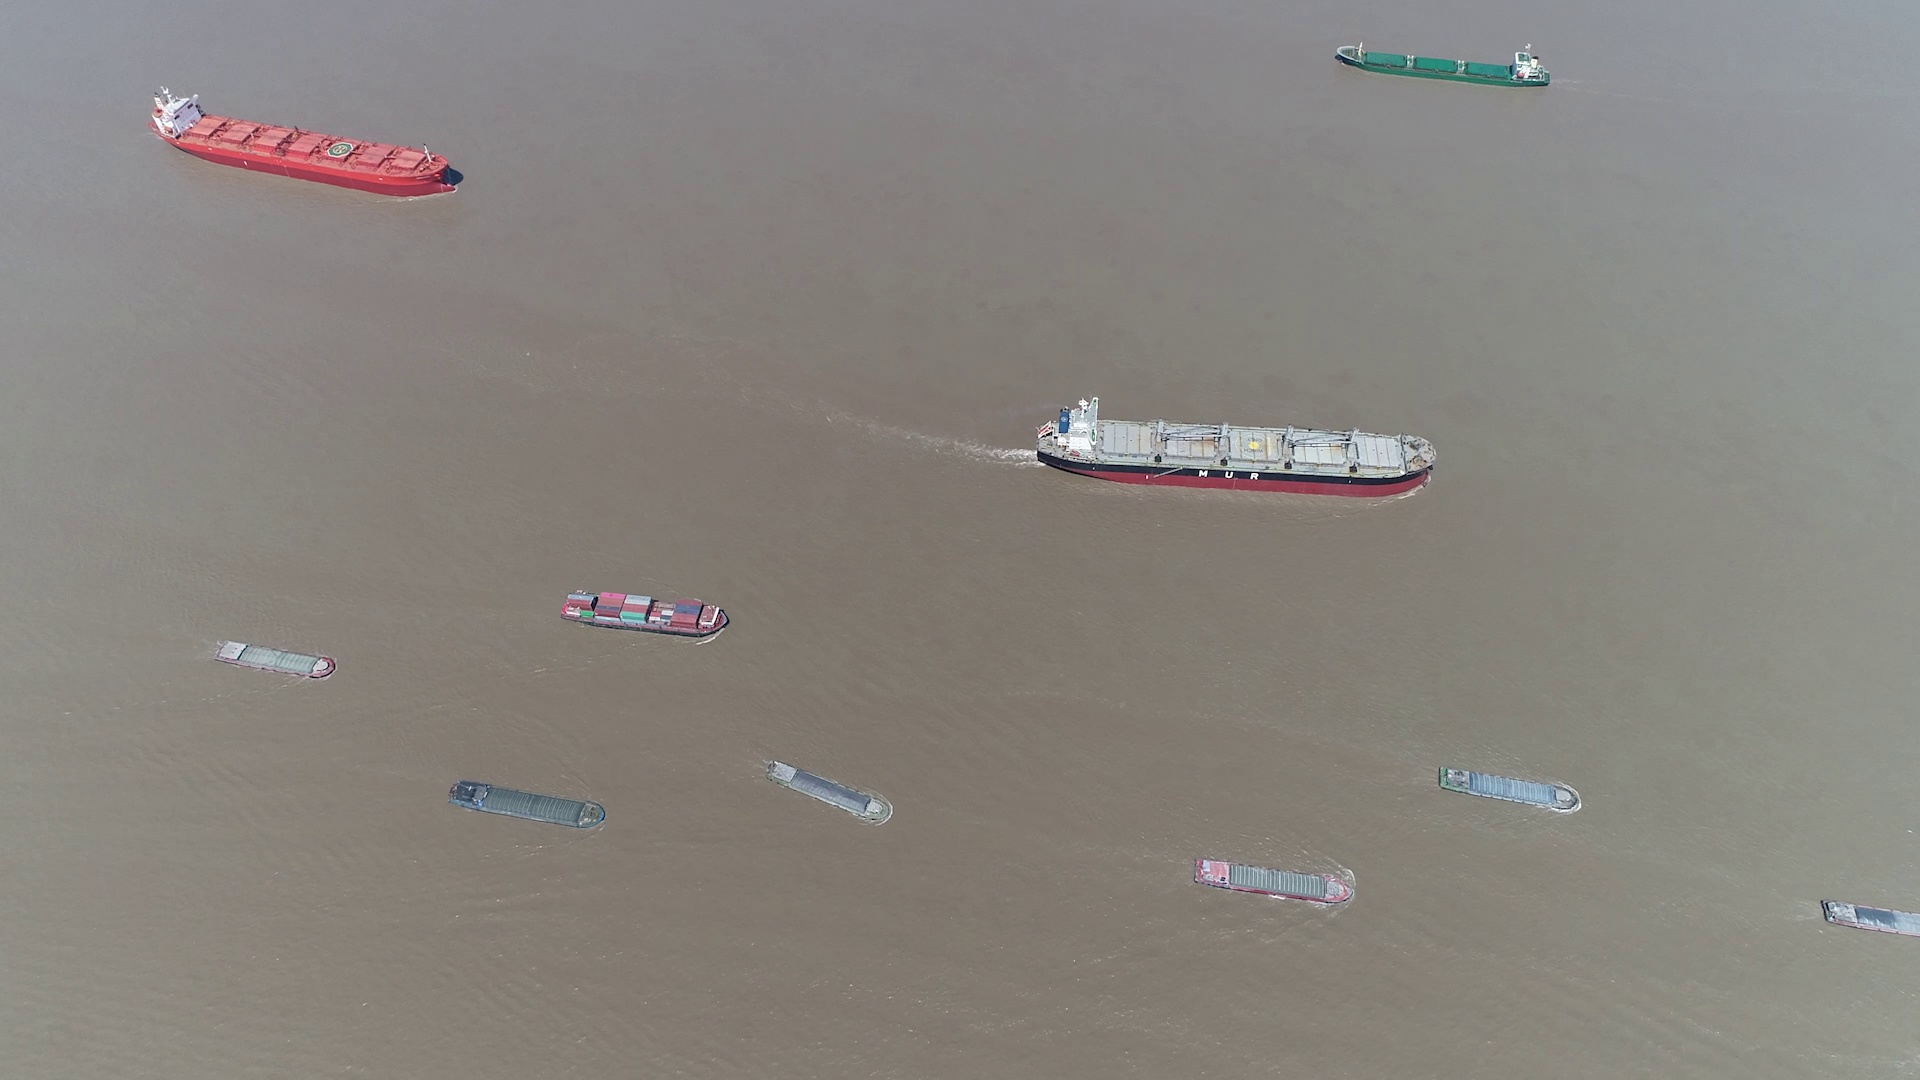ship: (1038, 404, 1433, 496), (152, 87, 458, 195), (1333, 41, 1553, 88), (448, 778, 609, 829), (769, 760, 894, 824), (560, 589, 731, 636), (1193, 861, 1354, 905), (1439, 767, 1581, 812), (214, 640, 338, 679), (1818, 899, 1919, 938)
